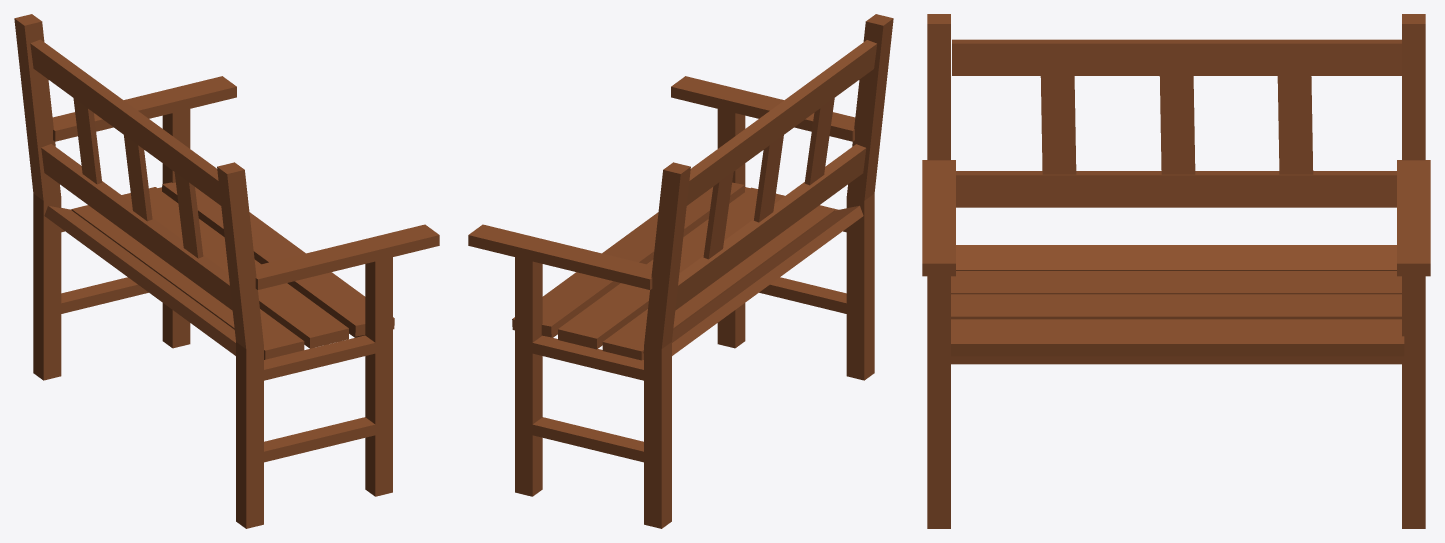
Rendered from woodchair.fbx.
3 views of the same model, side by side, from view 1: azimuth 30°, elevation 25°; view 2: azimuth 150°, elevation 25°; view 3: azimuth 270°, elevation 25° (orthographic). The views are drawn at different scales.
Visible parts, largest first — view 1: Cube; view 2: Cube; view 3: Cube.
Boxes of the visible parts, x1=… form: Cube: x1=14, y1=14, x2=439, y2=528; Cube: x1=468, y1=14, x2=893, y2=528; Cube: x1=922, y1=14, x2=1430, y2=528.
Size of the model in its own units: 81.63 by 133 by 146.
